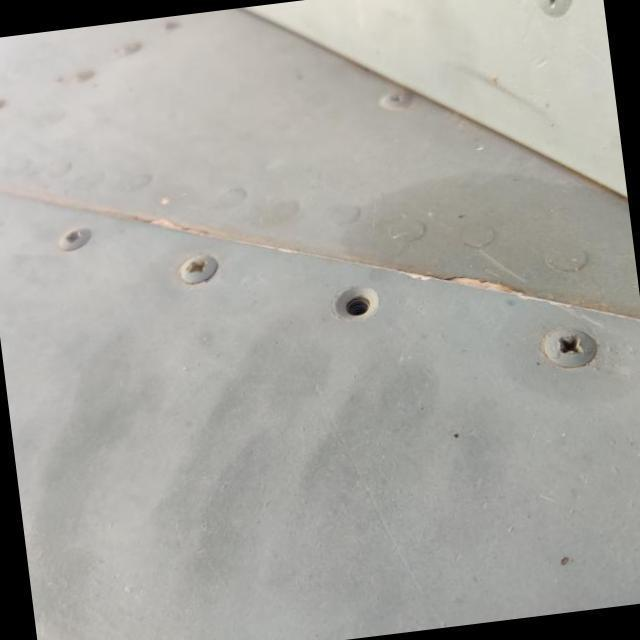Missing Fastener: (332, 284, 381, 324)
